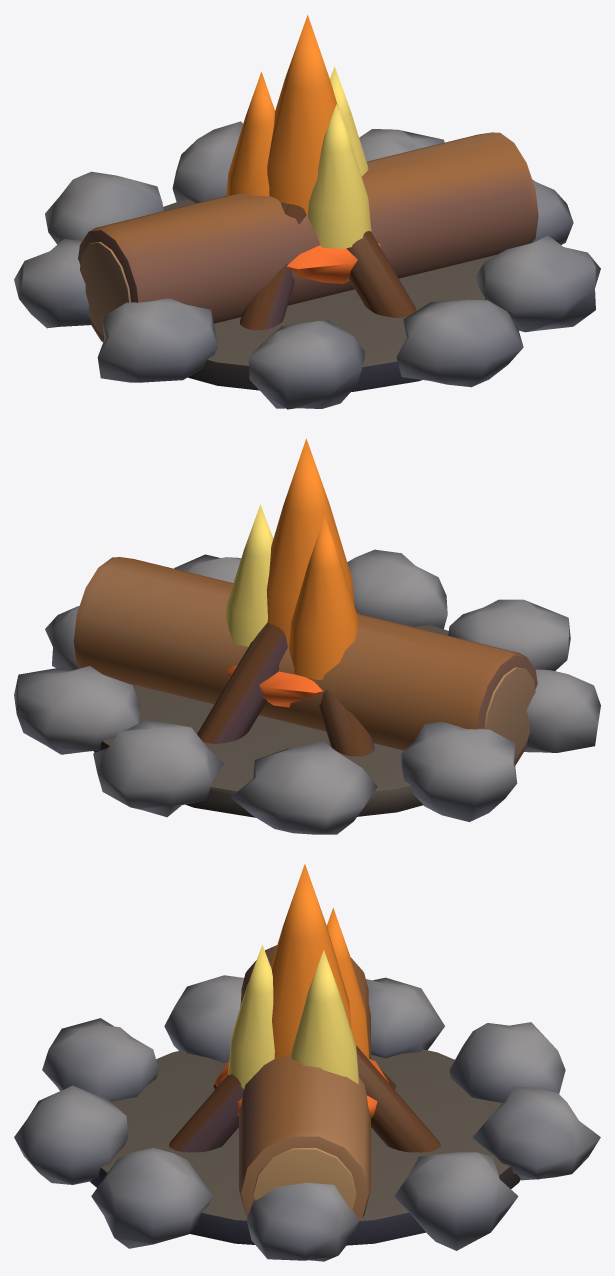
File: Campfire.fbx
3 renders of one model, top to bottom at view 1: azimuth 30°, elevation 25°; view 2: azimuth 150°, elevation 25°; view 3: azimuth 270°, elevation 25°, orthographic.
Visible parts, largest first — view 1: SM_Yard_Campfire, SM_Yard_LogSeat, SM_Yard_Campfire_Flames; view 2: SM_Yard_Campfire, SM_Yard_LogSeat, SM_Yard_Campfire_Flames; view 3: SM_Yard_Campfire, SM_Yard_Campfire_Flames, SM_Yard_LogSeat.
Boxes of the visible parts, bbox=[...] form: SM_Yard_Campfire: bbox=[14, 121, 600, 409]; SM_Yard_LogSeat: bbox=[78, 132, 538, 341]; SM_Yard_Campfire_Flames: bbox=[226, 15, 380, 283]; SM_Yard_Campfire: bbox=[14, 549, 600, 834]; SM_Yard_LogSeat: bbox=[73, 557, 537, 765]; SM_Yard_Campfire_Flames: bbox=[225, 438, 358, 707]; SM_Yard_Campfire: bbox=[14, 975, 600, 1261]; SM_Yard_Campfire_Flames: bbox=[214, 864, 388, 1117]; SM_Yard_LogSeat: bbox=[239, 945, 370, 1222].
Bounding box in the file's own units: 6.32 × 3.55 × 6.22.
